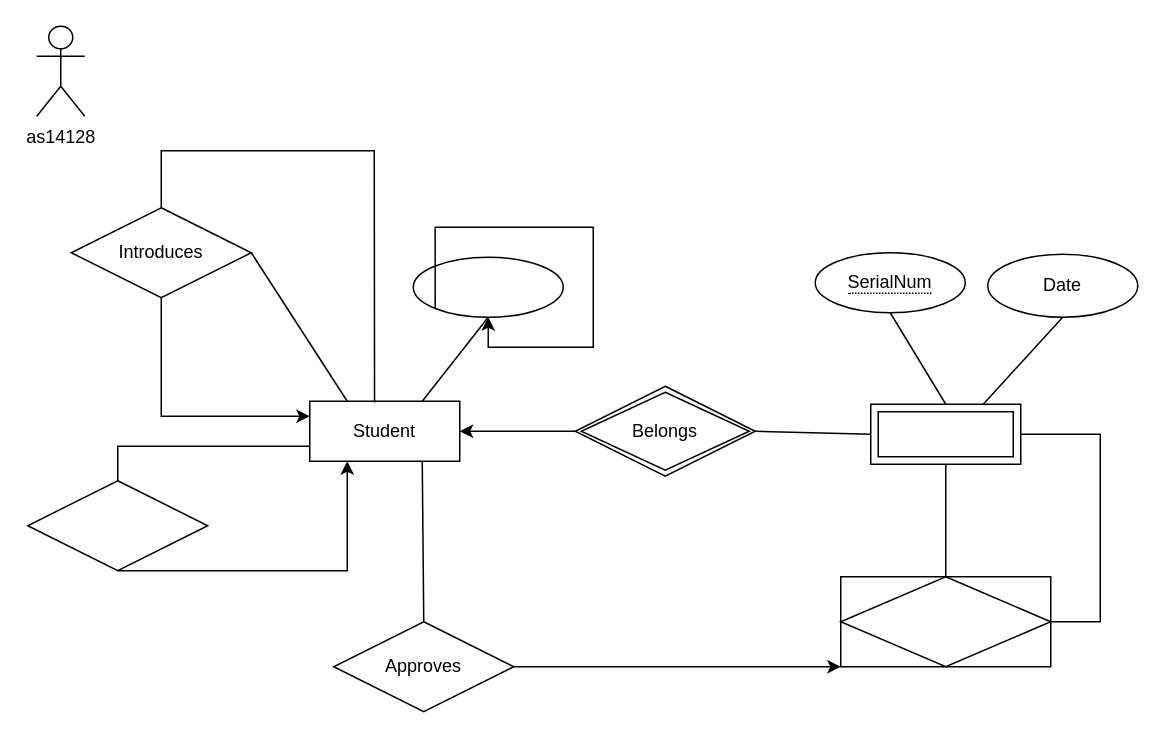
This 1164x738 diagram has some shape labels left out. The box of each missing label's shape, as (x1, y1, x2, y2) in pixels:
Bites: (839, 575, 1051, 667)
Dog: (869, 403, 1021, 464)
Mentor: (26, 479, 208, 571)
NetID: (412, 256, 563, 317)
